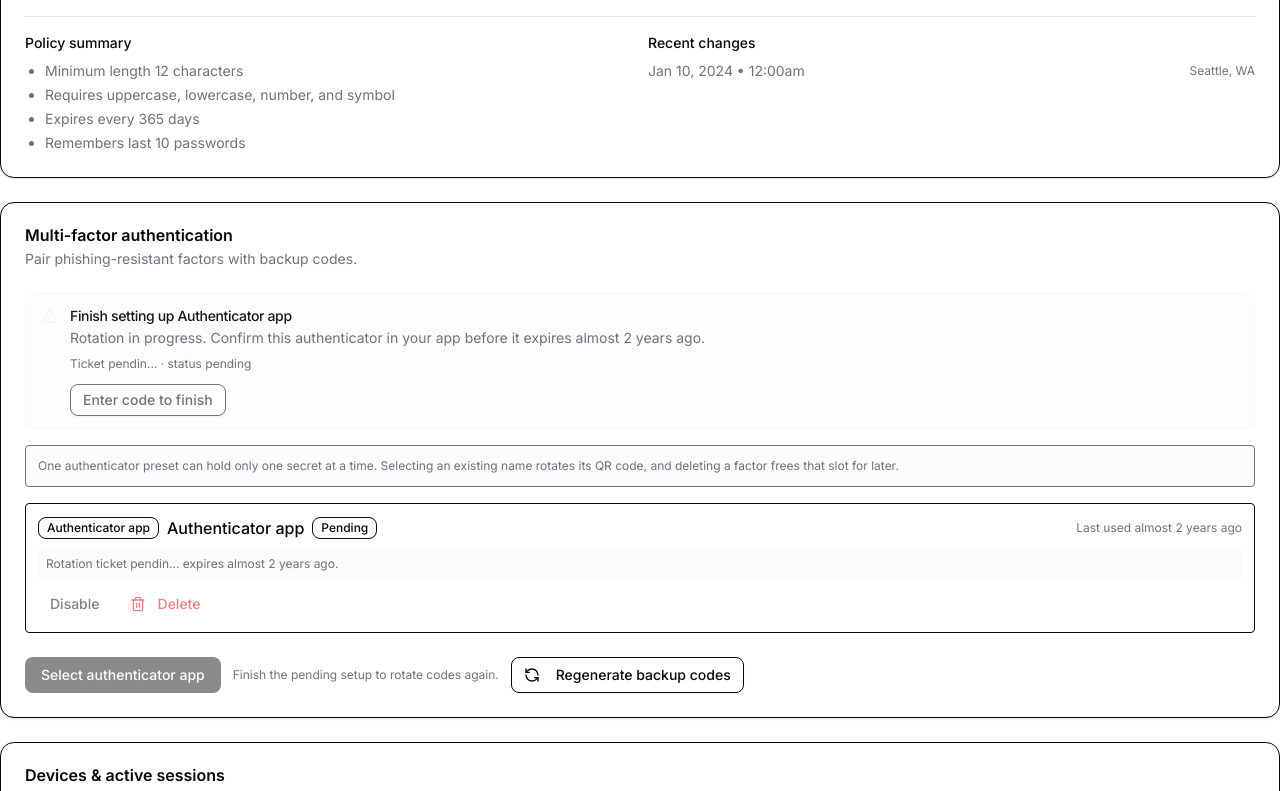
it: AccountSecuritySettingsPage › disables conflicting MFA actions while a rotation is pending
(page scrolled)
Check: the message with test id "pending-mfa-enrollment-alert" is shown, box 25,293 -> 1255,429
Check: the button "Select authenticator app" is disabled, box 25,657 -> 221,693
Click the button "Enter code to finish" at (148, 400), box 70,384 -> 226,416
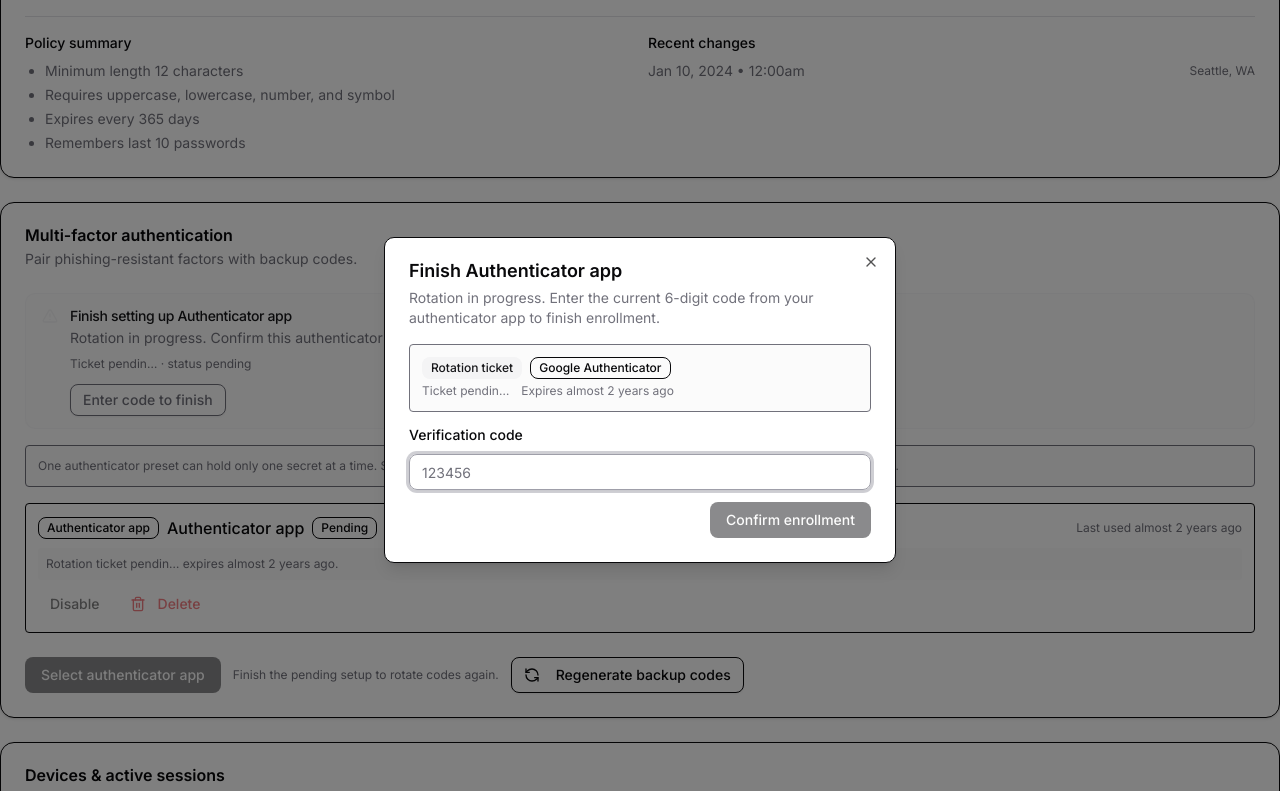
Check: the field labelled "Verification code" is shown, box 409,454 -> 871,490
